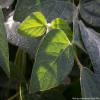Soyabean leaf: (28, 28, 75, 95), (50, 15, 74, 49), (17, 11, 47, 38)
